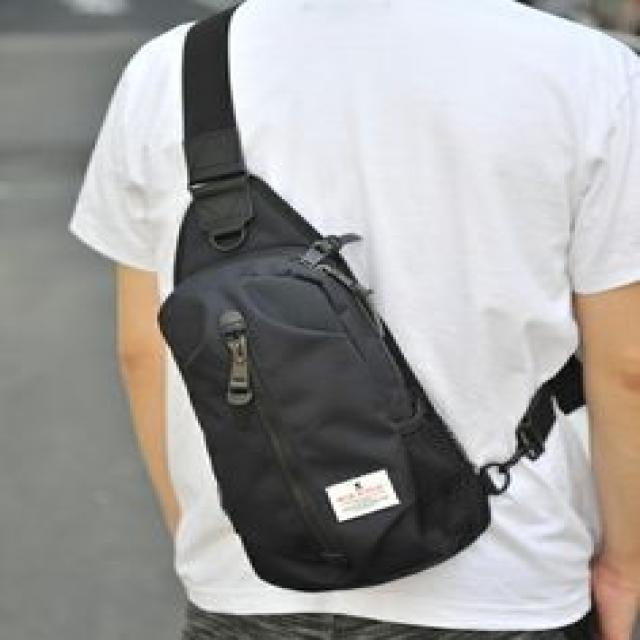Handbag: (152, 178, 489, 592)
